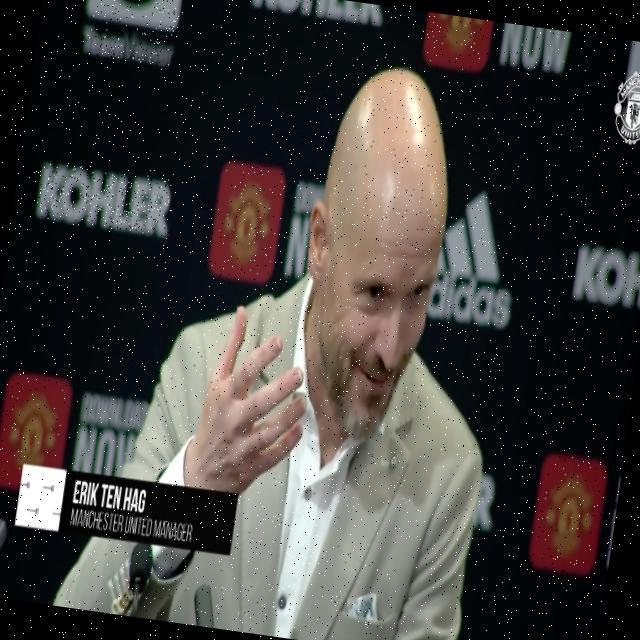Kohler: (36, 161, 176, 238)
TeamViewer: (81, 0, 184, 66)
